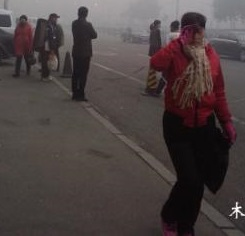person: (148, 8, 239, 236), (70, 4, 99, 102), (33, 11, 62, 82), (9, 13, 36, 79), (147, 18, 163, 57), (164, 18, 183, 45)
